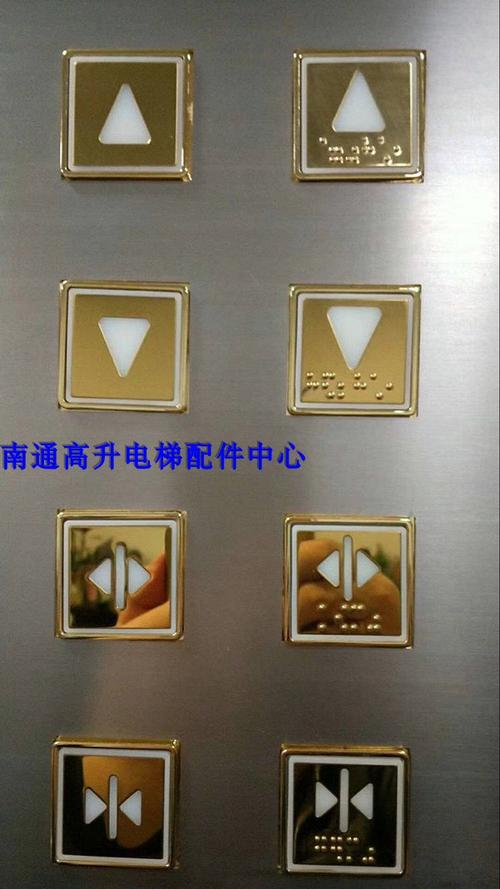Braille: (316, 603, 334, 633), (377, 135, 393, 166), (393, 135, 409, 166), (327, 135, 344, 164), (361, 136, 377, 166), (311, 135, 327, 164), (367, 603, 383, 632), (384, 373, 400, 401), (335, 603, 350, 632), (345, 135, 359, 165), (321, 370, 336, 398), (368, 372, 383, 400), (351, 603, 366, 631), (337, 371, 351, 400), (306, 370, 320, 398), (353, 372, 367, 400), (329, 836, 344, 862), (361, 836, 375, 863), (314, 835, 328, 861), (346, 836, 360, 862)
